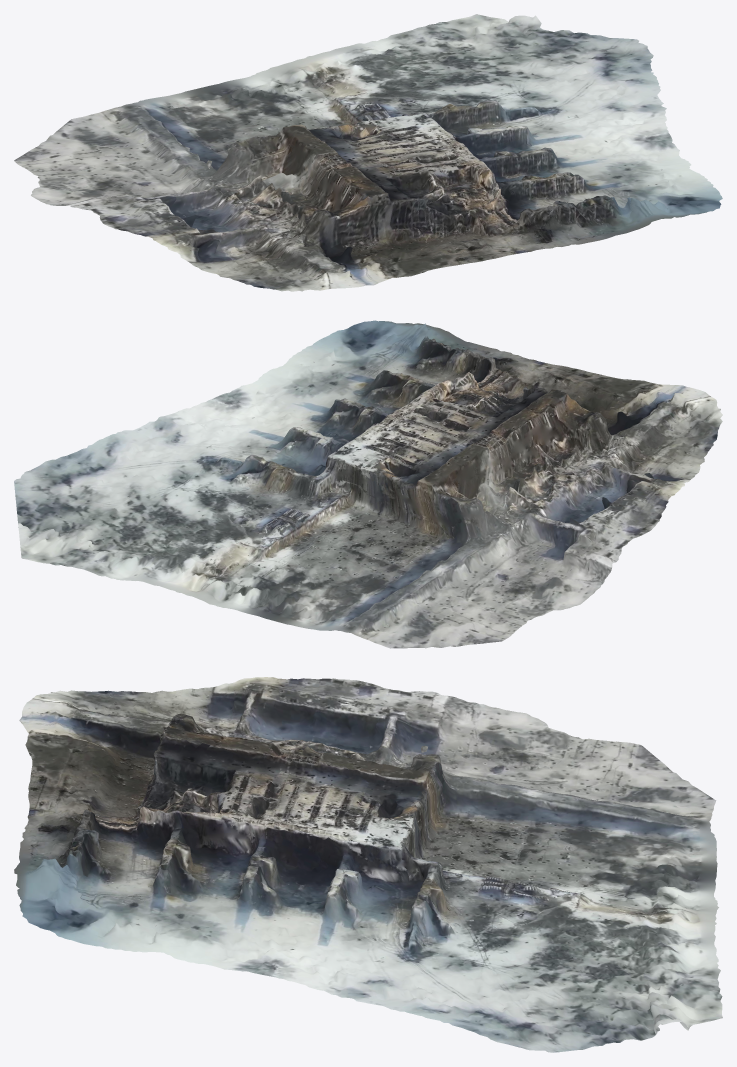
File: SM_RuinedTerminal.glb
The picture shows the model from 3 angles, top to bottom: view 1: azimuth 30°, elevation 25°; view 2: azimuth 150°, elevation 25°; view 3: azimuth 270°, elevation 25°; orthographic projection. The views are drawn at different scales.
Parts seen in each view (by area): view 1: SM_RuinedTerminal; view 2: SM_RuinedTerminal; view 3: SM_RuinedTerminal.
Boxes of the visible parts, left/top/right/bottom form: SM_RuinedTerminal: left=14, top=14, right=722, bottom=291; SM_RuinedTerminal: left=14, top=320, right=722, bottom=648; SM_RuinedTerminal: left=14, top=677, right=722, bottom=1052.
Size of the model in its own units: 32 by 4.7 by 28.45.
1 material, 1 textured.
